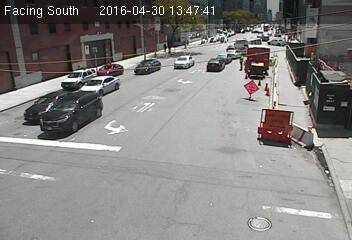neg: (320, 96, 339, 122), (244, 77, 262, 101), (246, 211, 262, 232), (334, 144, 349, 164), (264, 78, 276, 94), (197, 32, 208, 46), (99, 49, 110, 63), (139, 57, 150, 71), (28, 68, 38, 81), (260, 30, 267, 39), (220, 33, 227, 42)
pos: (161, 41, 170, 54)
